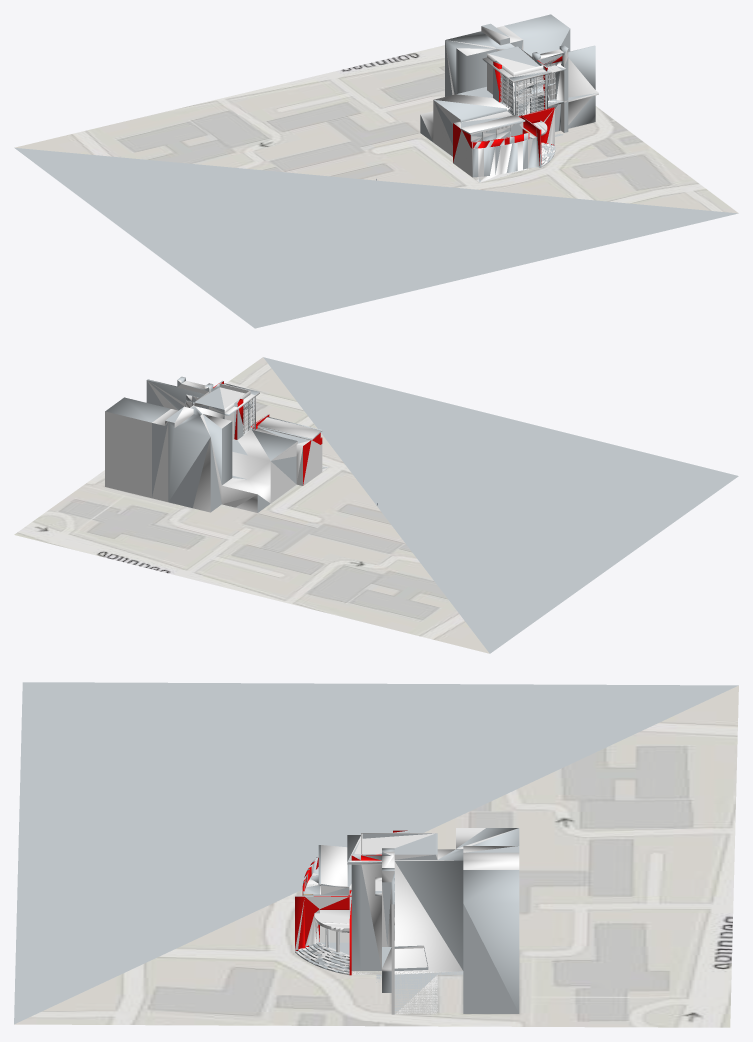
3 renders of one model, top to bottom at view 1: azimuth 30°, elevation 25°; view 2: azimuth 150°, elevation 25°; view 3: azimuth 270°, elevation 25°, orthographic. The views are drawn at different scales.
Visible parts, largest first — view 1: 0abe2763-a3f8-4949-9ad8-66380fddeeed; view 2: 0abe2763-a3f8-4949-9ad8-66380fddeeed; view 3: 0abe2763-a3f8-4949-9ad8-66380fddeeed.
Part boxes in pixels (bbox=[...]): 0abe2763-a3f8-4949-9ad8-66380fddeeed: bbox=[14, 14, 738, 328]; 0abe2763-a3f8-4949-9ad8-66380fddeeed: bbox=[14, 357, 738, 653]; 0abe2763-a3f8-4949-9ad8-66380fddeeed: bbox=[14, 682, 738, 1027].
Size of the model in its own units: 14847 by 2443 by 13160.
Materials: 35 (8 with a texture image).
